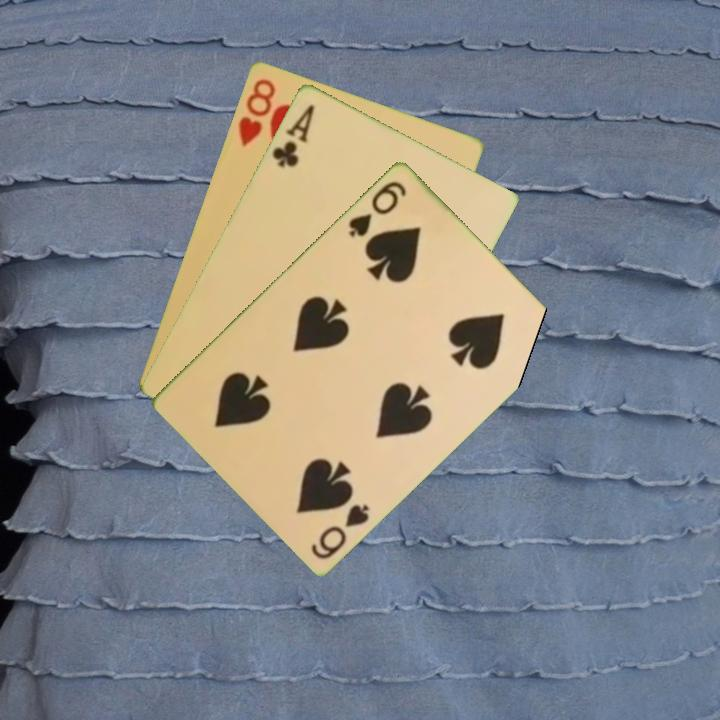6s: (344, 176, 409, 240), (307, 499, 372, 562)
8h: (234, 74, 279, 150)
Ac: (268, 100, 318, 170)
